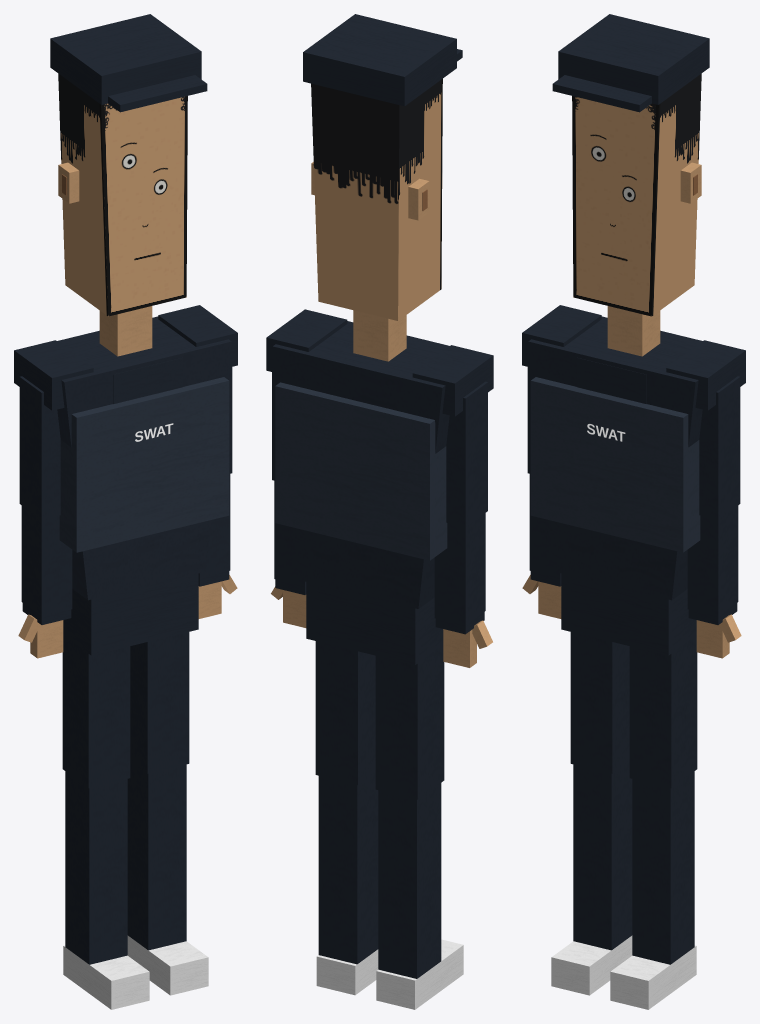
The model's file is swat.glb.
3 renders of one model, left to right at view 1: azimuth 30°, elevation 25°; view 2: azimuth 150°, elevation 25°; view 3: azimuth 330°, elevation 25°, orthographic.
Parts seen in each view (by area): view 1: torso, headMesh, jacket, head, kneeR, kneeL, hipR, shoulderR, hipL, hips, elbowR, footR (+6 smaller); view 2: headMesh, torso, jacket, kneeR, kneeL, head, hipR, shoulderR, hipL, hips, elbowR, footR (+6 smaller); view 3: torso, headMesh, jacket, head, kneeL, kneeR, hipL, shoulderL, hipR, hips, elbowL, footL (+6 smaller).
Part boxes in pixels (left/top/right/bottom): torso: left=59, top=357, right=229, bottom=552; headMesh: left=58, top=73, right=187, bottom=316; jacket: left=57, top=316, right=231, bottom=600; head: left=50, top=14, right=207, bottom=203; kneeR: left=65, top=771, right=127, bottom=964; kneeL: left=127, top=761, right=186, bottom=950; hipR: left=62, top=635, right=130, bottom=787; shoulderR: left=14, top=340, right=93, bottom=519; hipL: left=130, top=632, right=189, bottom=773; hips: left=63, top=573, right=198, bottom=655; elbowR: left=21, top=505, right=72, bottom=624; footR: left=63, top=945, right=149, bottom=1009; headMesh: left=311, top=79, right=442, bottom=320; torso: left=275, top=382, right=447, bottom=560; jacket: left=272, top=321, right=449, bottom=608; kneeR: left=378, top=783, right=441, bottom=978; kneeL: left=318, top=772, right=378, bottom=964; head: left=303, top=14, right=462, bottom=220; hipR: left=375, top=645, right=444, bottom=799; shoulderR: left=412, top=345, right=493, bottom=527; hipL: left=315, top=641, right=375, bottom=784; hips: left=306, top=582, right=443, bottom=664; elbowR: left=434, top=513, right=485, bottom=634; footR: left=376, top=939, right=463, bottom=1009; torso: left=530, top=357, right=700, bottom=552; headMesh: left=572, top=73, right=701, bottom=316; jacket: left=528, top=316, right=702, bottom=600; head: left=552, top=14, right=709, bottom=203; kneeL: left=632, top=771, right=694, bottom=964; kneeR: left=573, top=761, right=632, bottom=950; hipL: left=629, top=635, right=697, bottom=787; shoulderL: left=666, top=340, right=745, bottom=519; hipR: left=570, top=632, right=629, bottom=773; hips: left=561, top=573, right=696, bottom=655; elbowL: left=687, top=505, right=738, bottom=624; footL: left=610, top=945, right=696, bottom=1009.
Bounding box in the file's own units: 0.6155 × 2.56 × 0.3241.
Materials: 16 (16 with a texture image).
